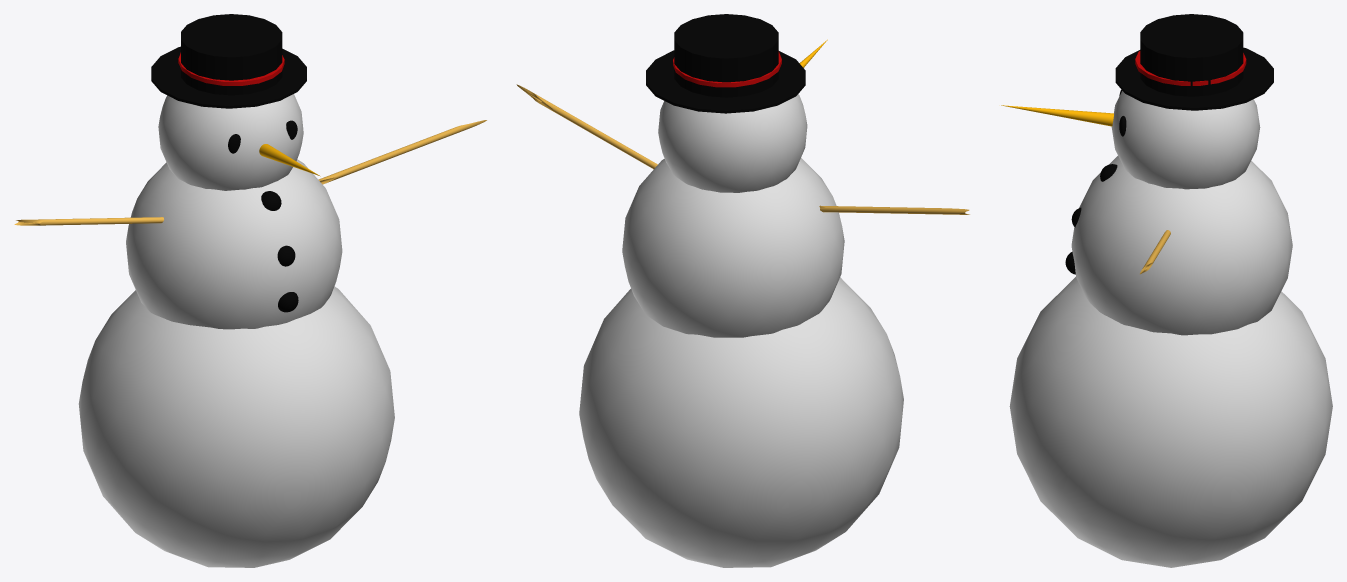
File: snowman.gltf
The picture shows the model from 3 angles, left to right: view 1: azimuth 30°, elevation 25°; view 2: azimuth 150°, elevation 25°; view 3: azimuth 270°, elevation 25°; orthographic projection. The views are drawn at different scales.
Parts seen in each view (by area): view 1: GeoSphere001, GeoSphere002, GeoSphere003, Cylinder001, Cylinder002, Tube003, Tube002, Tube001; view 2: GeoSphere001, GeoSphere002, GeoSphere003, Cylinder001, Cylinder002, Tube003, Tube002, Tube001; view 3: GeoSphere001, GeoSphere002, GeoSphere003, Cylinder001, Cylinder002, Cone001, Tube001.
Part boxes in pixels (<box>): GeoSphere001: <box>78,286,394,567</box>; GeoSphere002: <box>126,159,342,329</box>; GeoSphere003: <box>158,94,303,190</box>; Cylinder001: <box>181,14,282,95</box>; Cylinder002: <box>151,46,306,108</box>; Tube003: <box>318,120,486,184</box>; Tube002: <box>14,217,163,225</box>; Tube001: <box>178,52,284,85</box>; GeoSphere001: <box>579,277,903,567</box>; GeoSphere002: <box>622,158,844,337</box>; GeoSphere003: <box>658,94,807,192</box>; Cylinder001: <box>674,14,778,97</box>; Cylinder002: <box>646,50,805,113</box>; Tube003: <box>516,84,657,169</box>; Tube002: <box>819,205,969,214</box>; Tube001: <box>673,51,781,87</box>; GeoSphere001: <box>1009,276,1332,567</box>; GeoSphere002: <box>1071,156,1292,335</box>; GeoSphere003: <box>1111,91,1260,189</box>; Cylinder001: <box>1140,14,1243,96</box>; Cylinder002: <box>1115,47,1273,110</box>; Cone001: <box>1001,105,1113,126</box>; Tube001: <box>1135,51,1246,85</box>.
Bounding box in the file's own units: 1.67 × 1.78 × 1.04.
